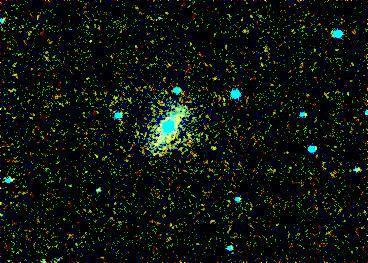star: (198, 133, 228, 163)
